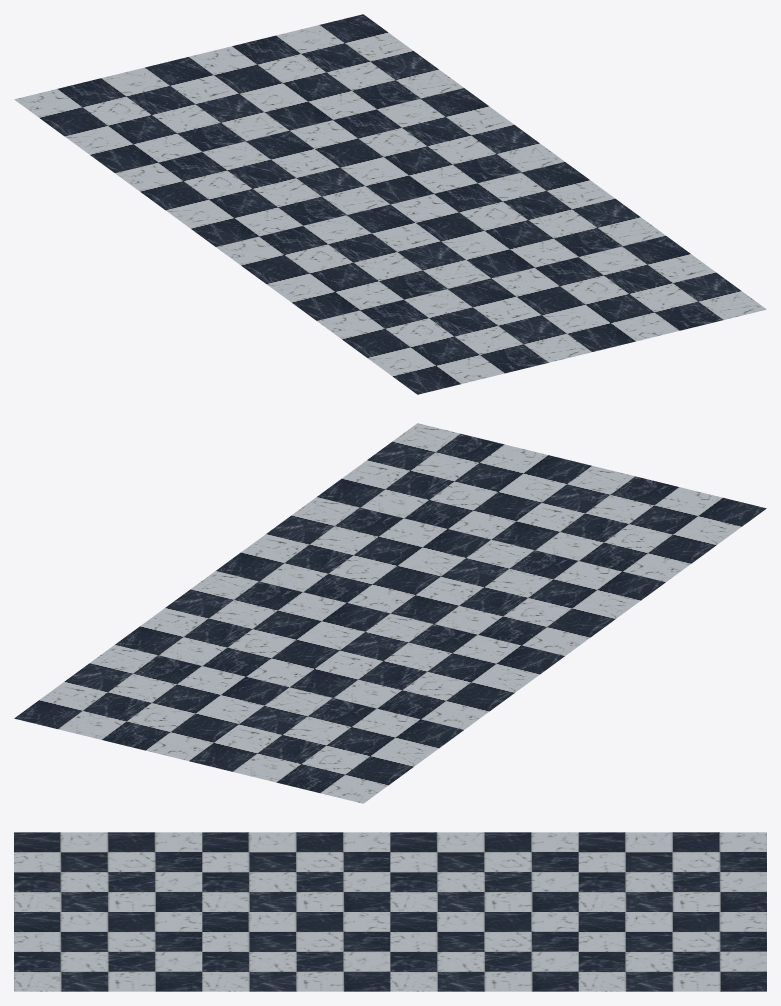
Rendered from brdf-test-noal.obj.
3 views of the same model, one above another, from view 1: azimuth 30°, elevation 25°; view 2: azimuth 150°, elevation 25°; view 3: azimuth 270°, elevation 25° (orthographic). The views are drawn at different scales.
Visible parts, largest first — view 1: Plane.003, Plane.004, Plane.001, Plane.002, Plane.006, Plane, Plane.005, Plane.007; view 2: Plane.002, Plane.005, Plane, Plane.007, Plane.001, Plane.003, Plane.004, Plane.006; view 3: Plane, Plane.001, Plane.002, Plane.003, Plane.004, Plane.005, Plane.006, Plane.007.
Boxes of the visible parts, x1=… form: Plane.003: x1=290, y1=88, x2=564, y2=204; Plane.004: x1=216, y1=204, x2=490, y2=320; Plane.001: x1=189, y1=14, x2=463, y2=130; Plane.002: x1=115, y1=130, x2=390, y2=246; Plane.006: x1=317, y1=278, x2=591, y2=394; Plane: x1=14, y1=57, x2=288, y2=172; Plane.005: x1=391, y1=162, x2=665, y2=278; Plane.007: x1=492, y1=236, x2=766, y2=351; Plane.002: x1=290, y1=613, x2=564, y2=729; Plane.005: x1=216, y1=497, x2=490, y2=613; Plane: x1=189, y1=687, x2=463, y2=803; Plane.007: x1=317, y1=423, x2=591, y2=539; Plane.001: x1=14, y1=645, x2=288, y2=760; Plane.003: x1=115, y1=571, x2=389, y2=687; Plane.004: x1=391, y1=539, x2=665, y2=655; Plane.006: x1=492, y1=466, x2=766, y2=581; Plane: x1=578, y1=832, x2=766, y2=911; Plane.001: x1=578, y1=912, x2=766, y2=991; Plane.002: x1=390, y1=832, x2=578, y2=911; Plane.003: x1=390, y1=912, x2=578, y2=991; Plane.004: x1=202, y1=832, x2=390, y2=911; Plane.005: x1=202, y1=912, x2=390, y2=991; Plane.006: x1=14, y1=832, x2=202, y2=911; Plane.007: x1=14, y1=912, x2=202, y2=991.
Bounding box in the file's own units: 4 × 0 × 8.
